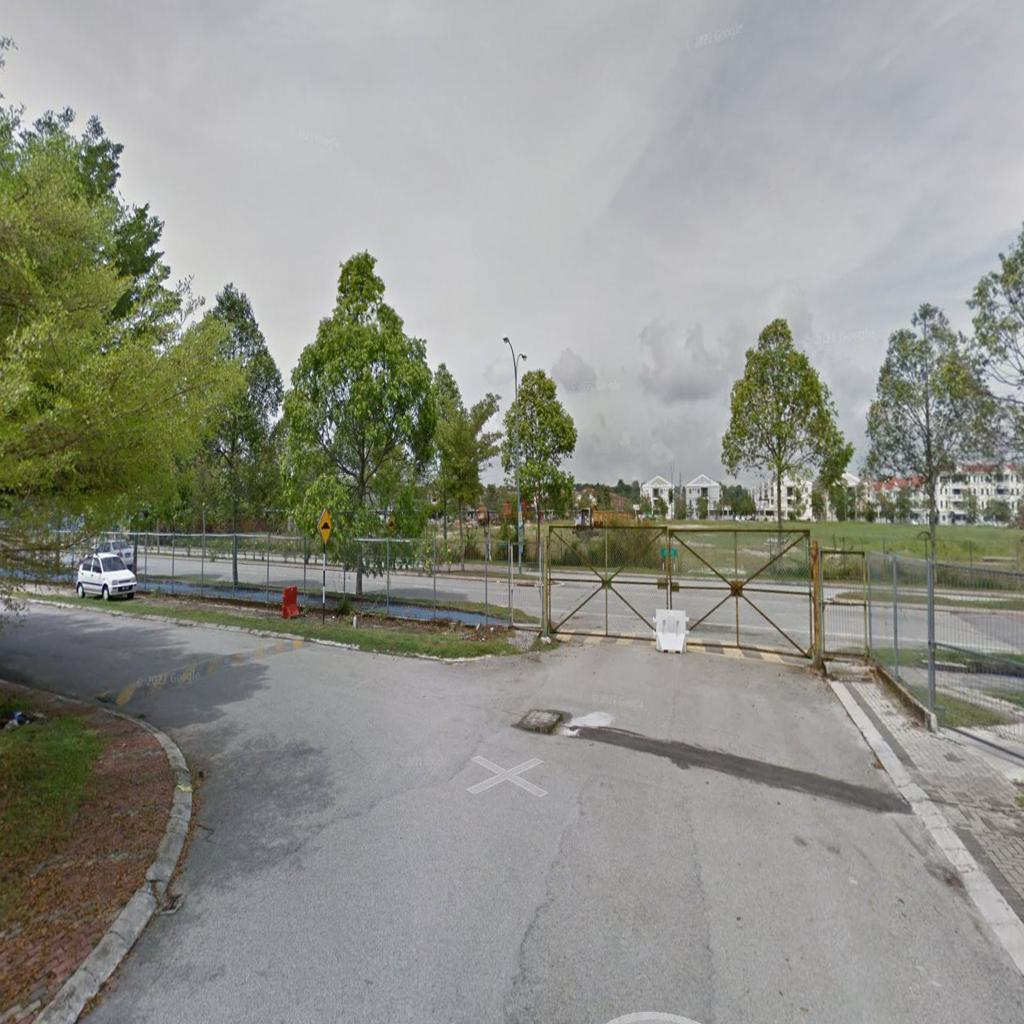Junction: (14, 590, 541, 877)
